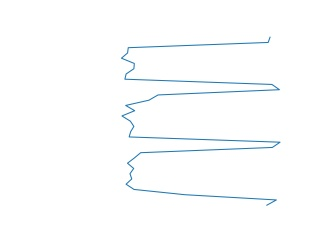majorRiverChannelBar: (119, 37, 284, 205)
